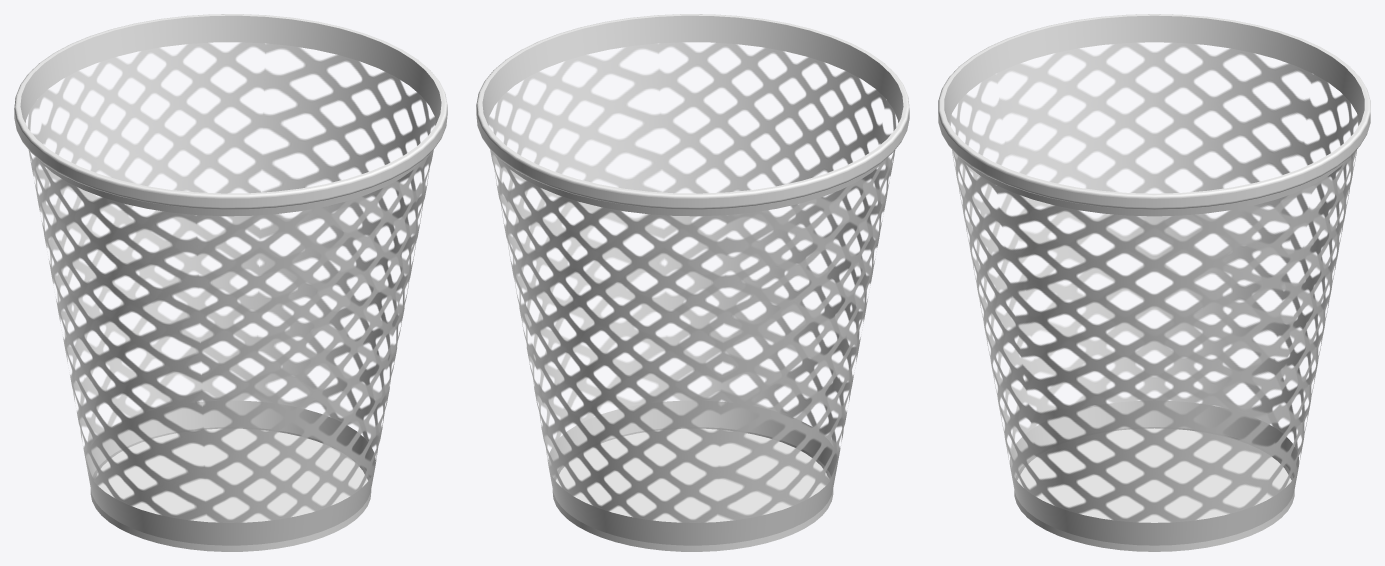
File: bucket.glb
The picture shows the model from 3 angles, left to right: view 1: azimuth 30°, elevation 25°; view 2: azimuth 150°, elevation 25°; view 3: azimuth 270°, elevation 25°; orthographic projection.
Visible parts, largest first — view 1: Cone001; view 2: Cone001; view 3: Cone001.
Part boxes in pixels (<box>): Cone001: <box>14,14,447,551</box>; Cone001: <box>476,14,909,551</box>; Cone001: <box>938,14,1370,551</box>.
Size of the model in its own units: 617 by 610 by 616.
Materials: 2 (1 with a texture image).
